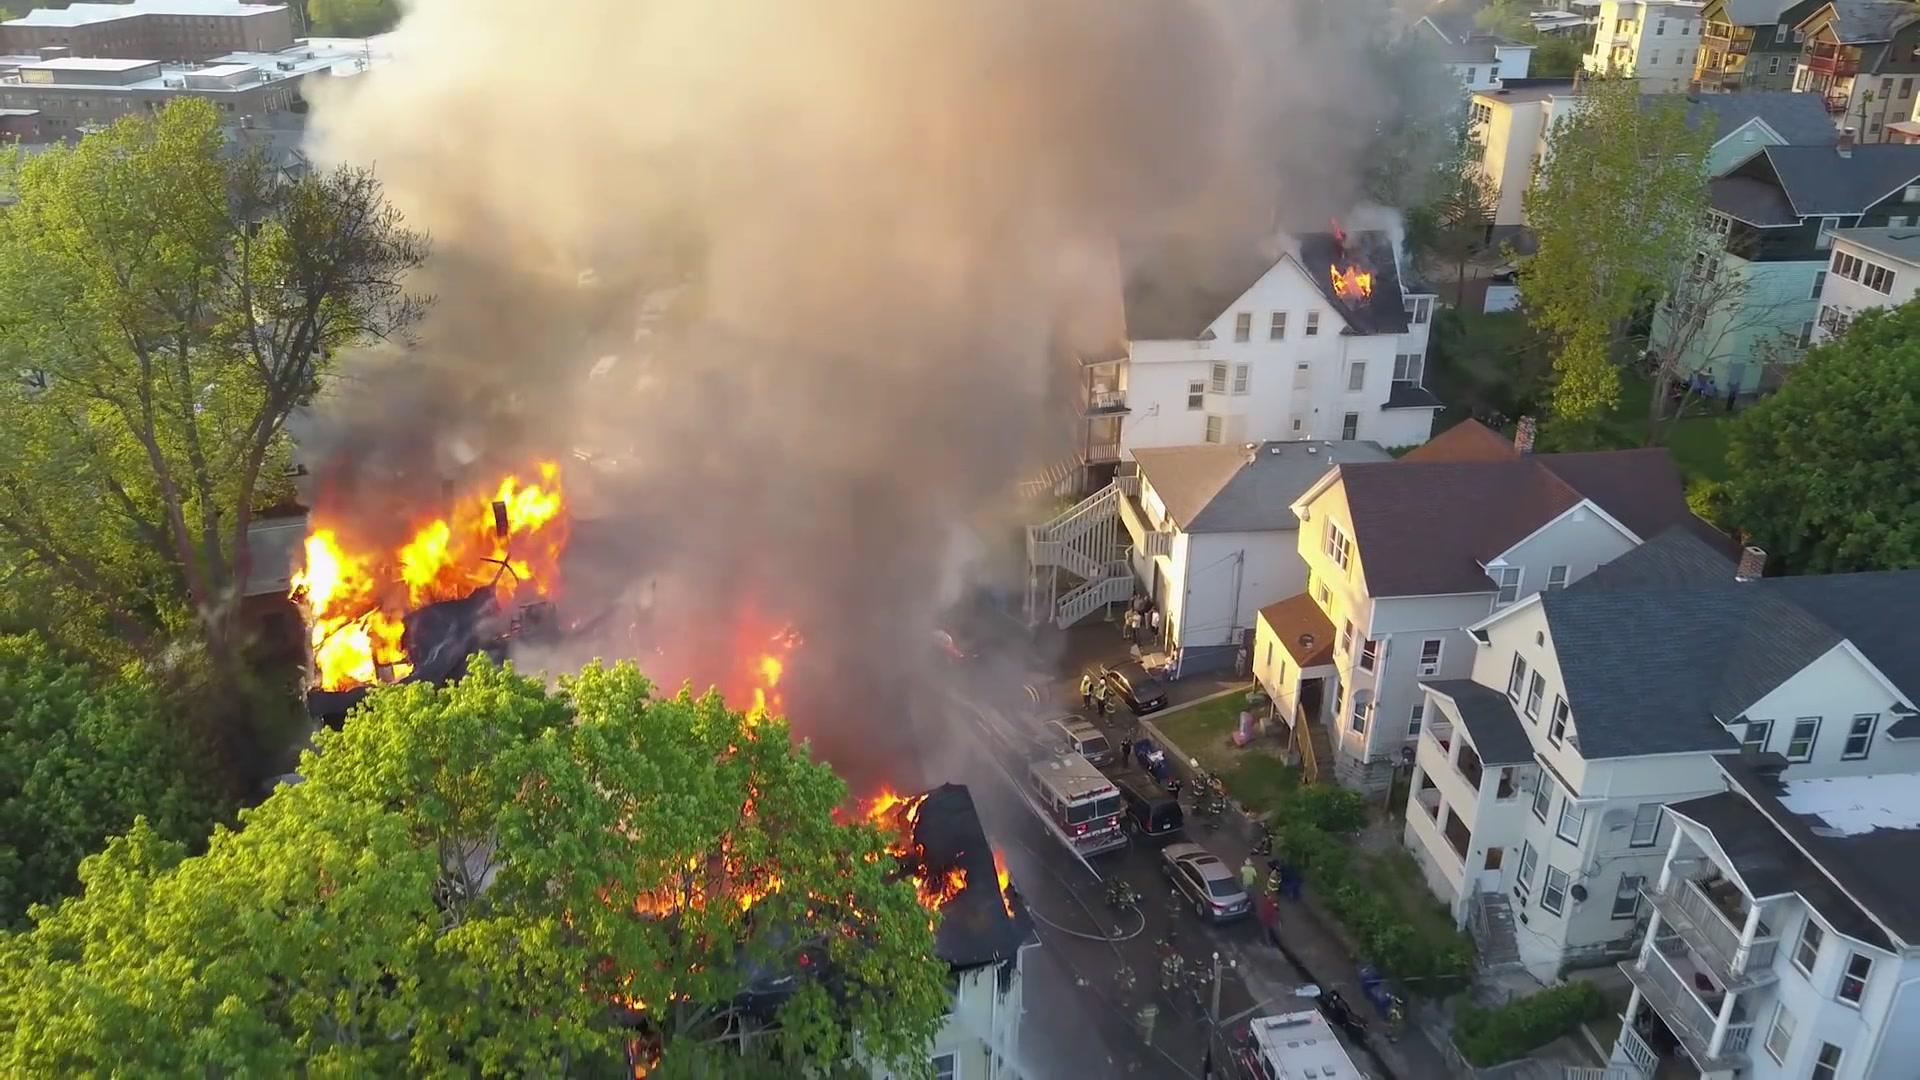fire: (287, 551, 535, 588), (302, 621, 402, 683), (448, 497, 551, 551)
smoke: (392, 12, 1091, 467), (1096, 15, 1383, 204), (599, 476, 931, 630)
